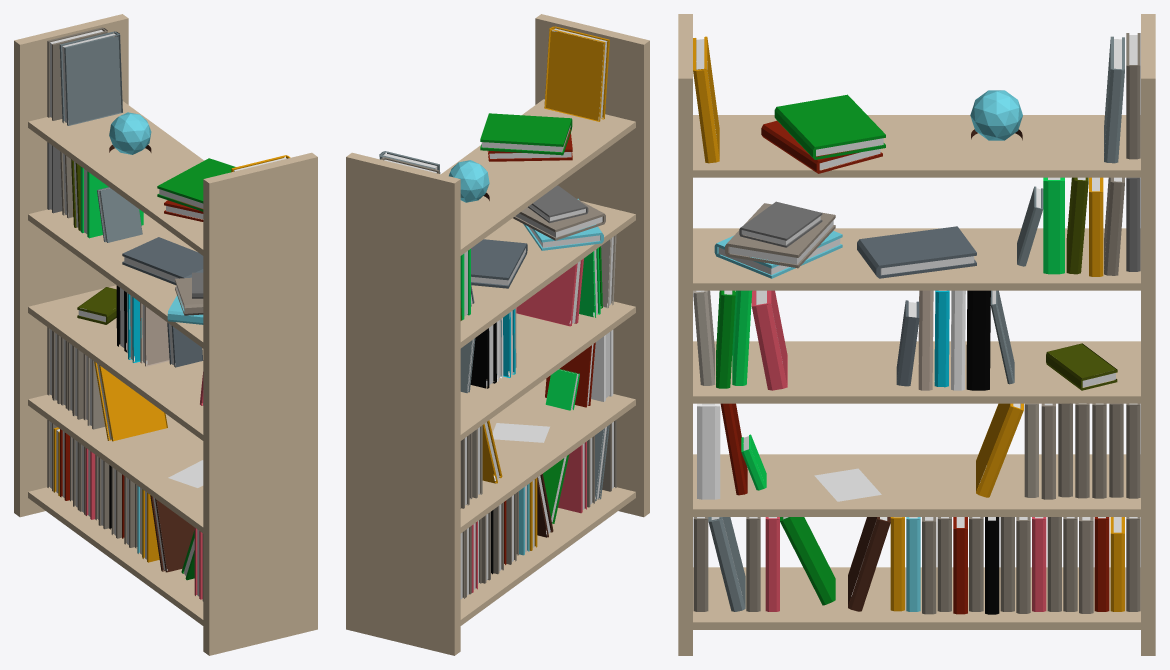
Rendered from bookshelf1.glb.
The picture shows the model from 3 angles, left to right: view 1: azimuth 30°, elevation 25°; view 2: azimuth 150°, elevation 25°; view 3: azimuth 270°, elevation 25°; orthographic projection. The views are drawn at different scales.
Parts seen in each view (by area): view 1: Cube_019; view 2: Cube_019; view 3: Cube_019.
Boxes of the visible parts, <box> form: Cube_019: <box>14,14,317,655</box>; Cube_019: <box>346,14,649,655</box>; Cube_019: <box>678,14,1155,655</box>.
Size of the model in its own units: 0.4948 by 2.06 by 1.54.
